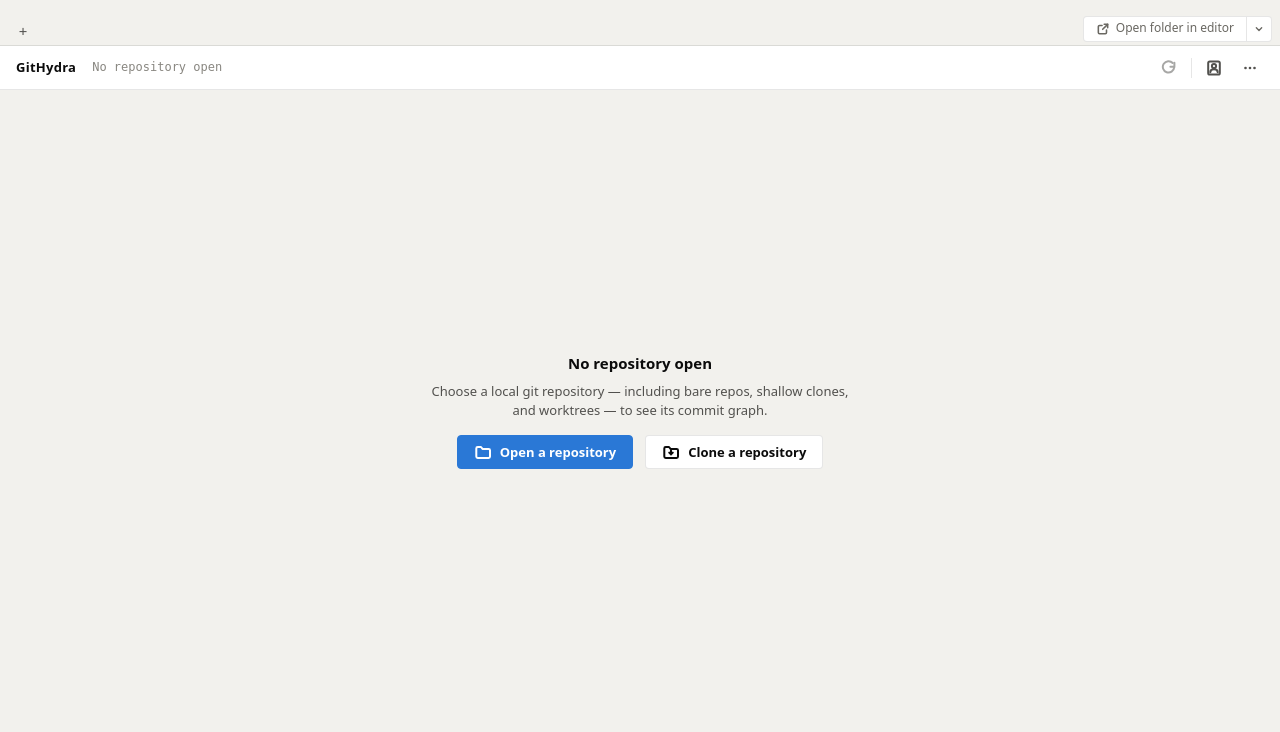
App — Branches panel refetches on a full refresh › shows a branch created externally after the Toolbar's Refresh, without reopening the repo
The width and height of the screenshot is (1280, 732).
What coordinates should you click on to do the following:
click the button "Open a repository"
I would click on:
 (545, 452)
Its box is [457, 435, 633, 469].
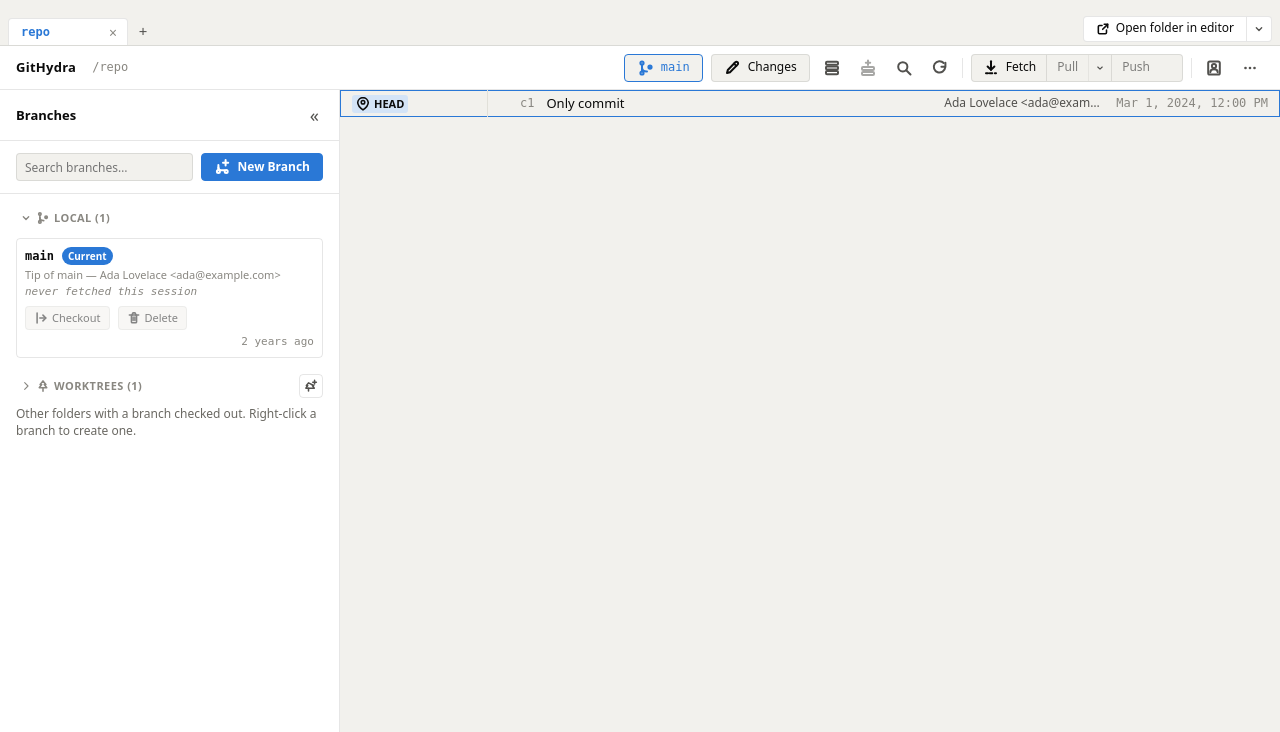
Check: the text "feature/from-terminal" is not shown
Check: the text "Only commit" is shown, box [546, 94, 624, 112]
What coordinates should you click on to do the following:
click the button named "refresh"
I would click on:
 (940, 68)
Its box is [926, 54, 954, 82].
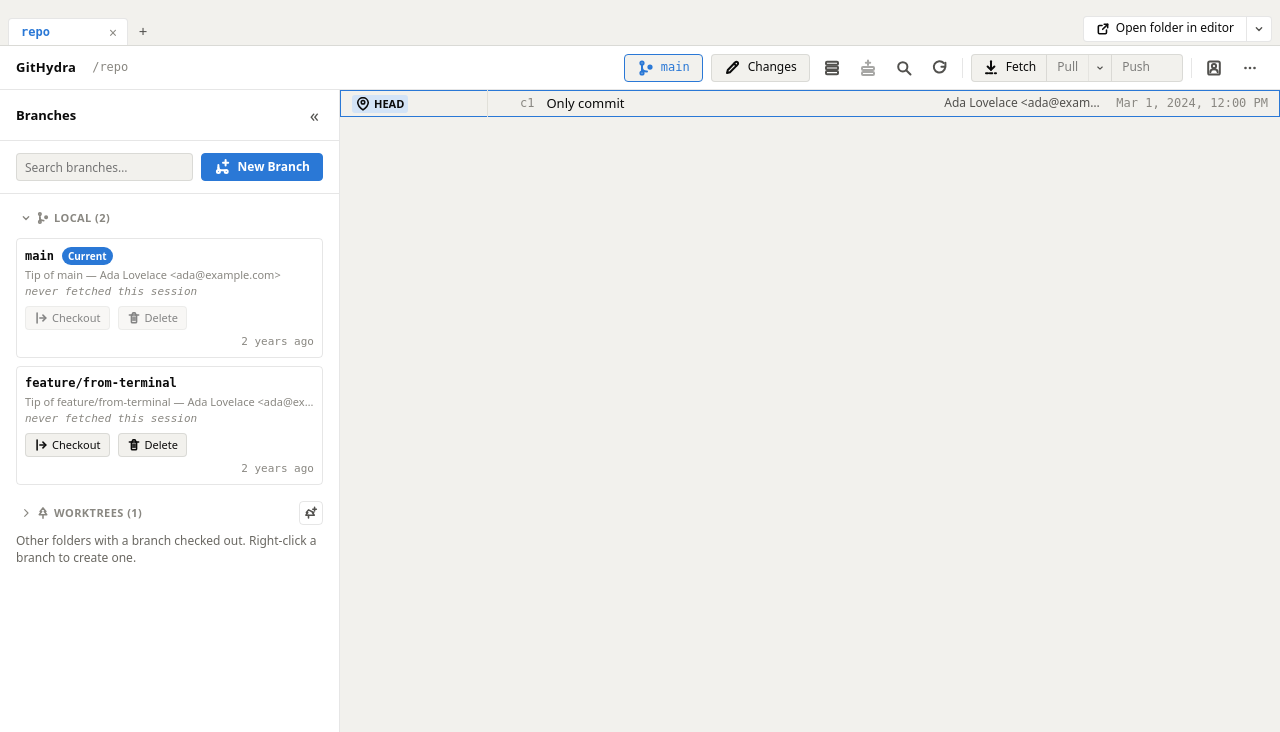
Check: the button "feature/from-terminal" is shown, box [25, 375, 177, 392]
